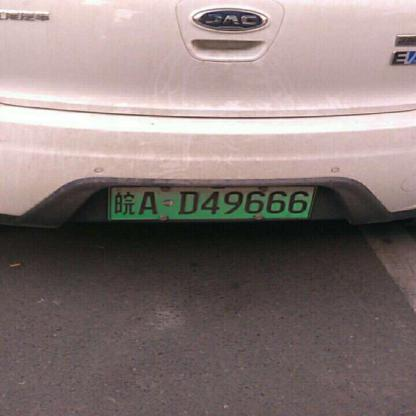lp: (108, 185, 314, 221)
